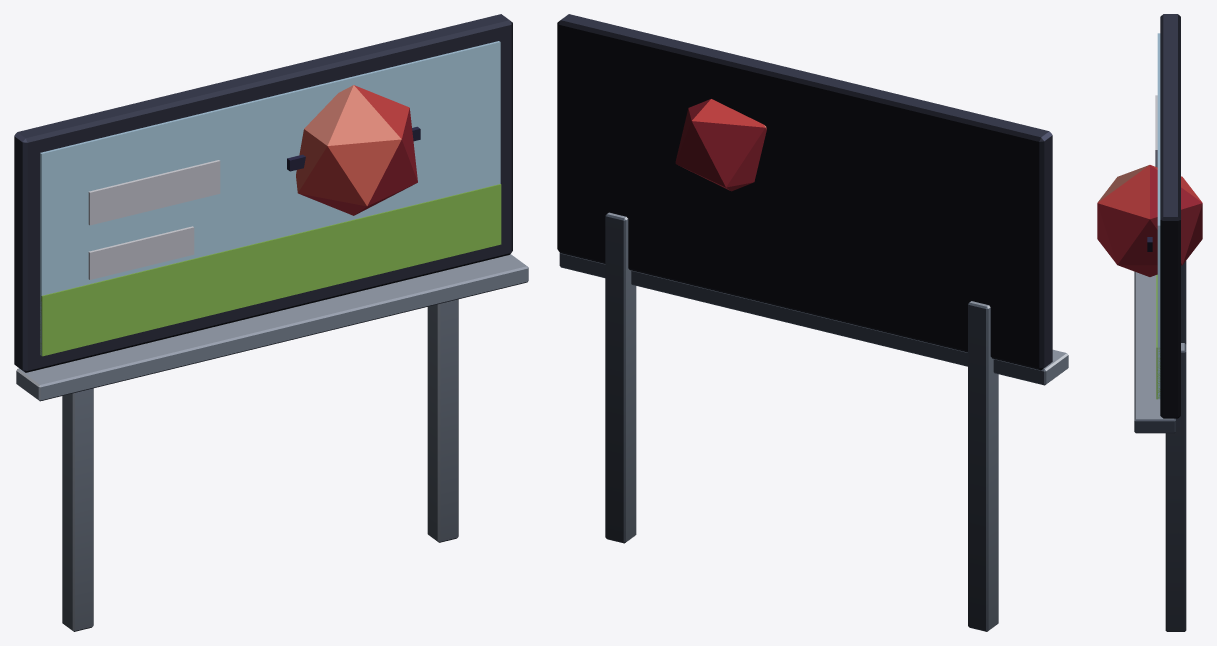
File: billboard.glb
The picture shows the model from 3 angles, left to right: view 1: azimuth 30°, elevation 25°; view 2: azimuth 150°, elevation 25°; view 3: azimuth 270°, elevation 25°; orthographic projection. The views are drawn at different scales.
Visible parts, largest first — view 1: billboard; view 2: billboard; view 3: billboard.
Part boxes in pixels (x1,y1,x2,y2): billboard: (14, 14, 528, 631); billboard: (557, 14, 1068, 631); billboard: (1097, 14, 1202, 631).
Size of the model in its own units: 1.88 by 1.86 by 0.4083.
